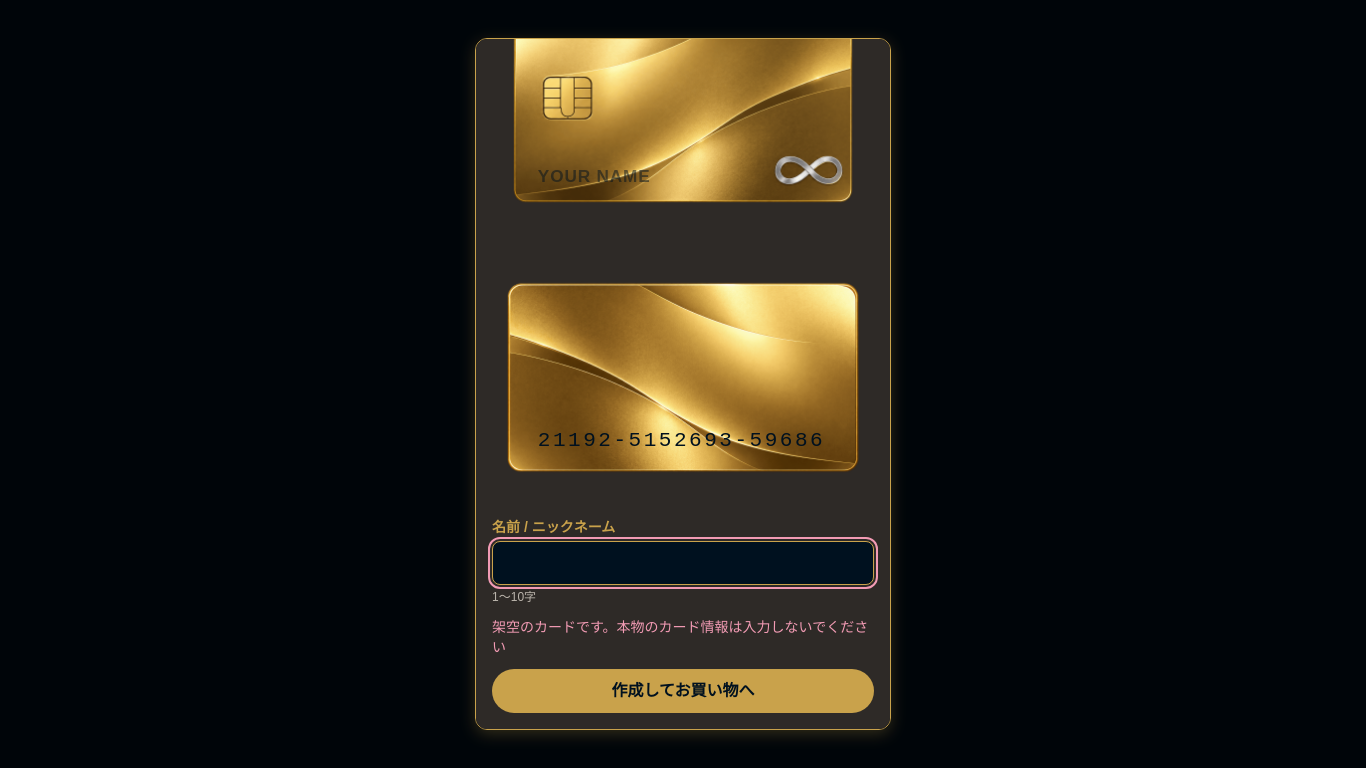
Test: CreateCardModal › 入力した名前が、カード表にその場で表示される
(page scrolled)
Type "TARO" into the field labelled "名前 / ニックネーム" at (683, 563), box [492,541,874,585]
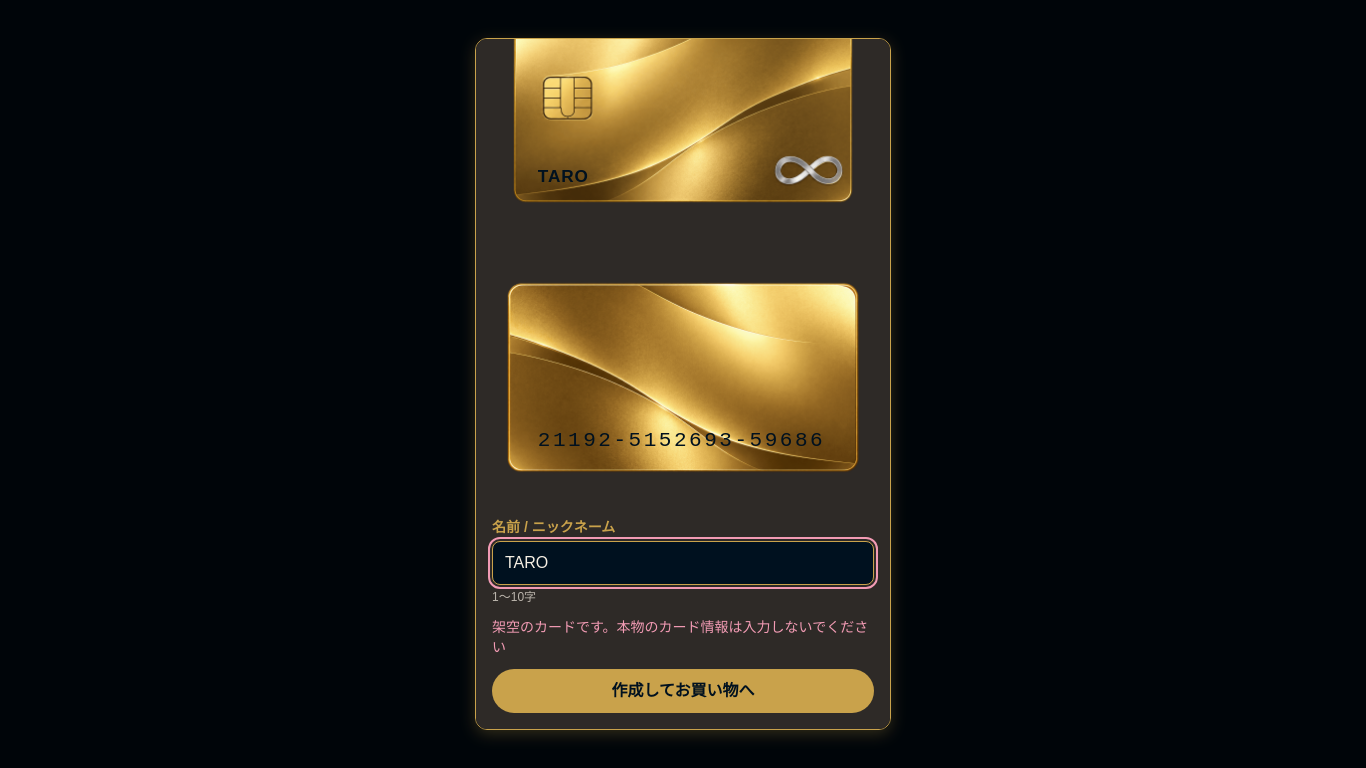
expect the text "TARO" is shown: met, box [538,166,589,186]
